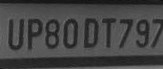character: (6, 16, 24, 50), (25, 16, 42, 50), (100, 16, 117, 49), (61, 17, 78, 49), (117, 17, 134, 49), (82, 16, 98, 49), (44, 18, 60, 49), (135, 18, 150, 49), (150, 16, 162, 49)
